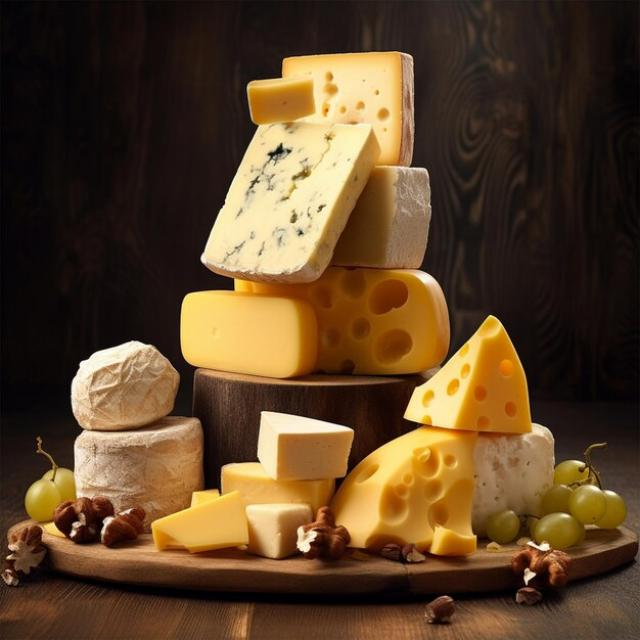Cheese: (147, 273, 453, 392), (198, 103, 372, 292), (402, 306, 563, 464), (266, 43, 421, 166), (342, 452, 478, 564)
